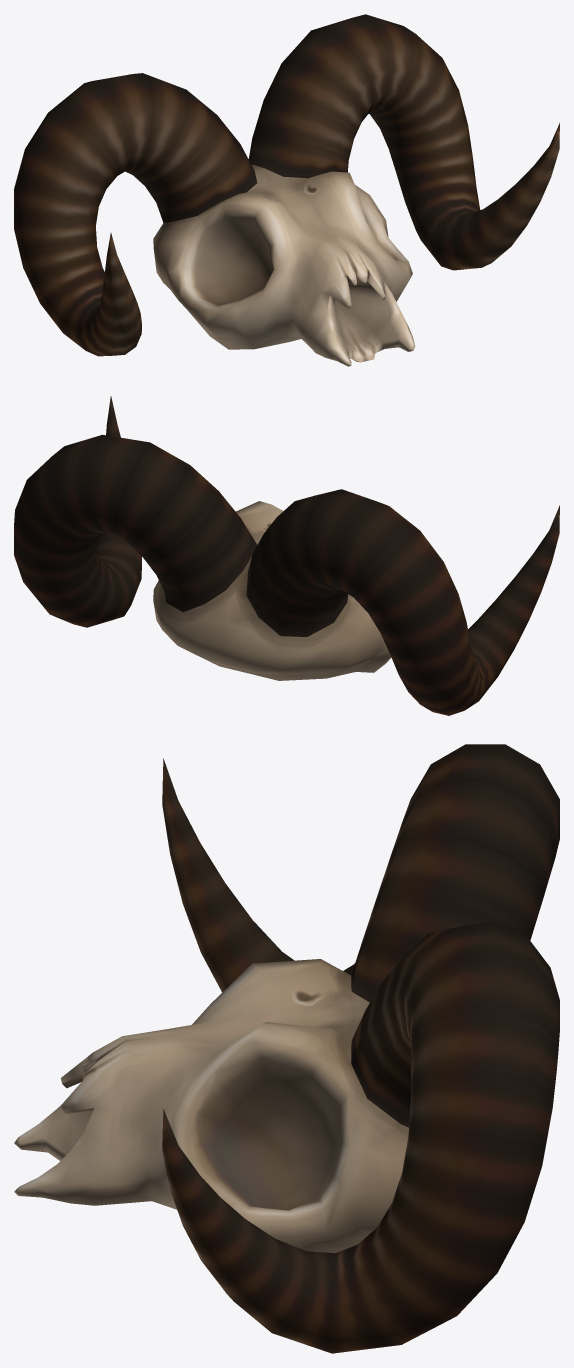
Rendered from DE_Skull_02.fbx.
3 renders of one model, top to bottom at view 1: azimuth 30°, elevation 25°; view 2: azimuth 150°, elevation 25°; view 3: azimuth 270°, elevation 25°, orthographic. The views are drawn at different scales.
Parts seen in each view (by area): view 1: DE_Skull_02; view 2: DE_Skull_02; view 3: DE_Skull_02.
Boxes of the visible parts, x1,y1,x2,y2 form: DE_Skull_02: [14, 14, 559, 366]; DE_Skull_02: [14, 396, 559, 715]; DE_Skull_02: [14, 744, 559, 1353].
Bounding box in the file's own units: 2.45 × 1.19 × 1.61.
